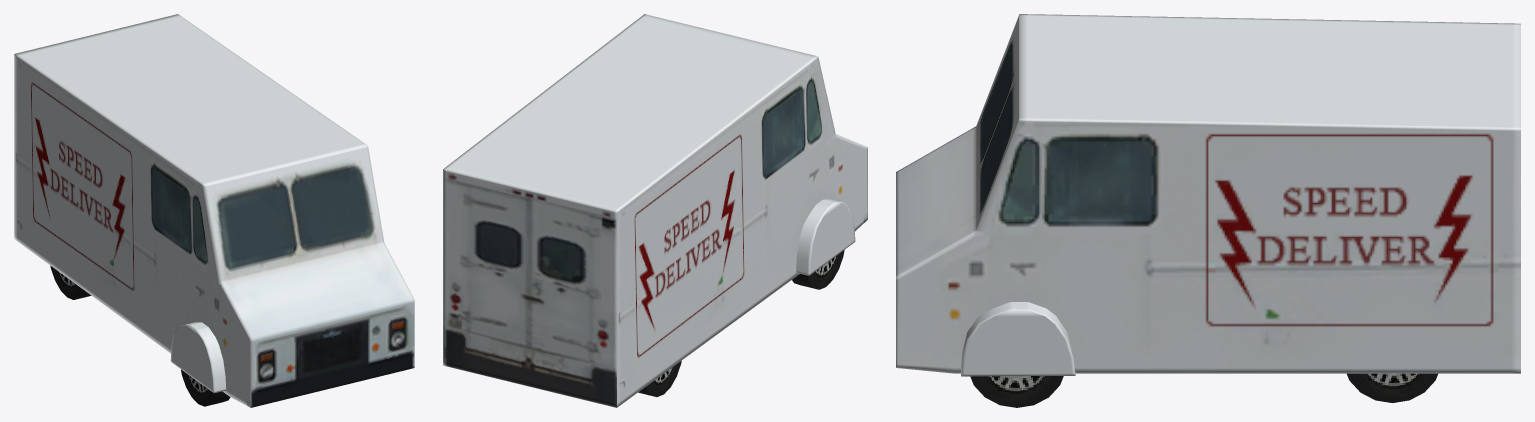
The model's file is 00_03_delivery_truck.DAE.
The picture shows the model from 3 angles, left to right: view 1: azimuth 30°, elevation 25°; view 2: azimuth 150°, elevation 25°; view 3: azimuth 270°, elevation 25°; orthographic projection. The views are drawn at different scales.
Visible parts, largest first — view 1: Object003, Object005, Cylinder003, Cylinder004; view 2: Object003, Object005, Cylinder003, Cylinder004; view 3: Object003, Object006, Cylinder006, Cylinder005.
Part boxes in pixels (x1,y1,x2,y2): Object003: (14, 14, 414, 407); Object005: (170, 322, 226, 393); Cylinder003: (181, 369, 230, 406); Cylinder004: (50, 265, 91, 299); Object003: (443, 14, 867, 407); Object005: (796, 199, 855, 275); Cylinder003: (792, 250, 844, 289); Cylinder004: (638, 361, 681, 396); Object003: (896, 14, 1520, 373); Object006: (961, 302, 1075, 376); Cylinder006: (970, 376, 1063, 407); Cylinder005: (1347, 373, 1437, 402).
Bounding box in the file's own units: 2.83 × 3.1 × 6.15.
